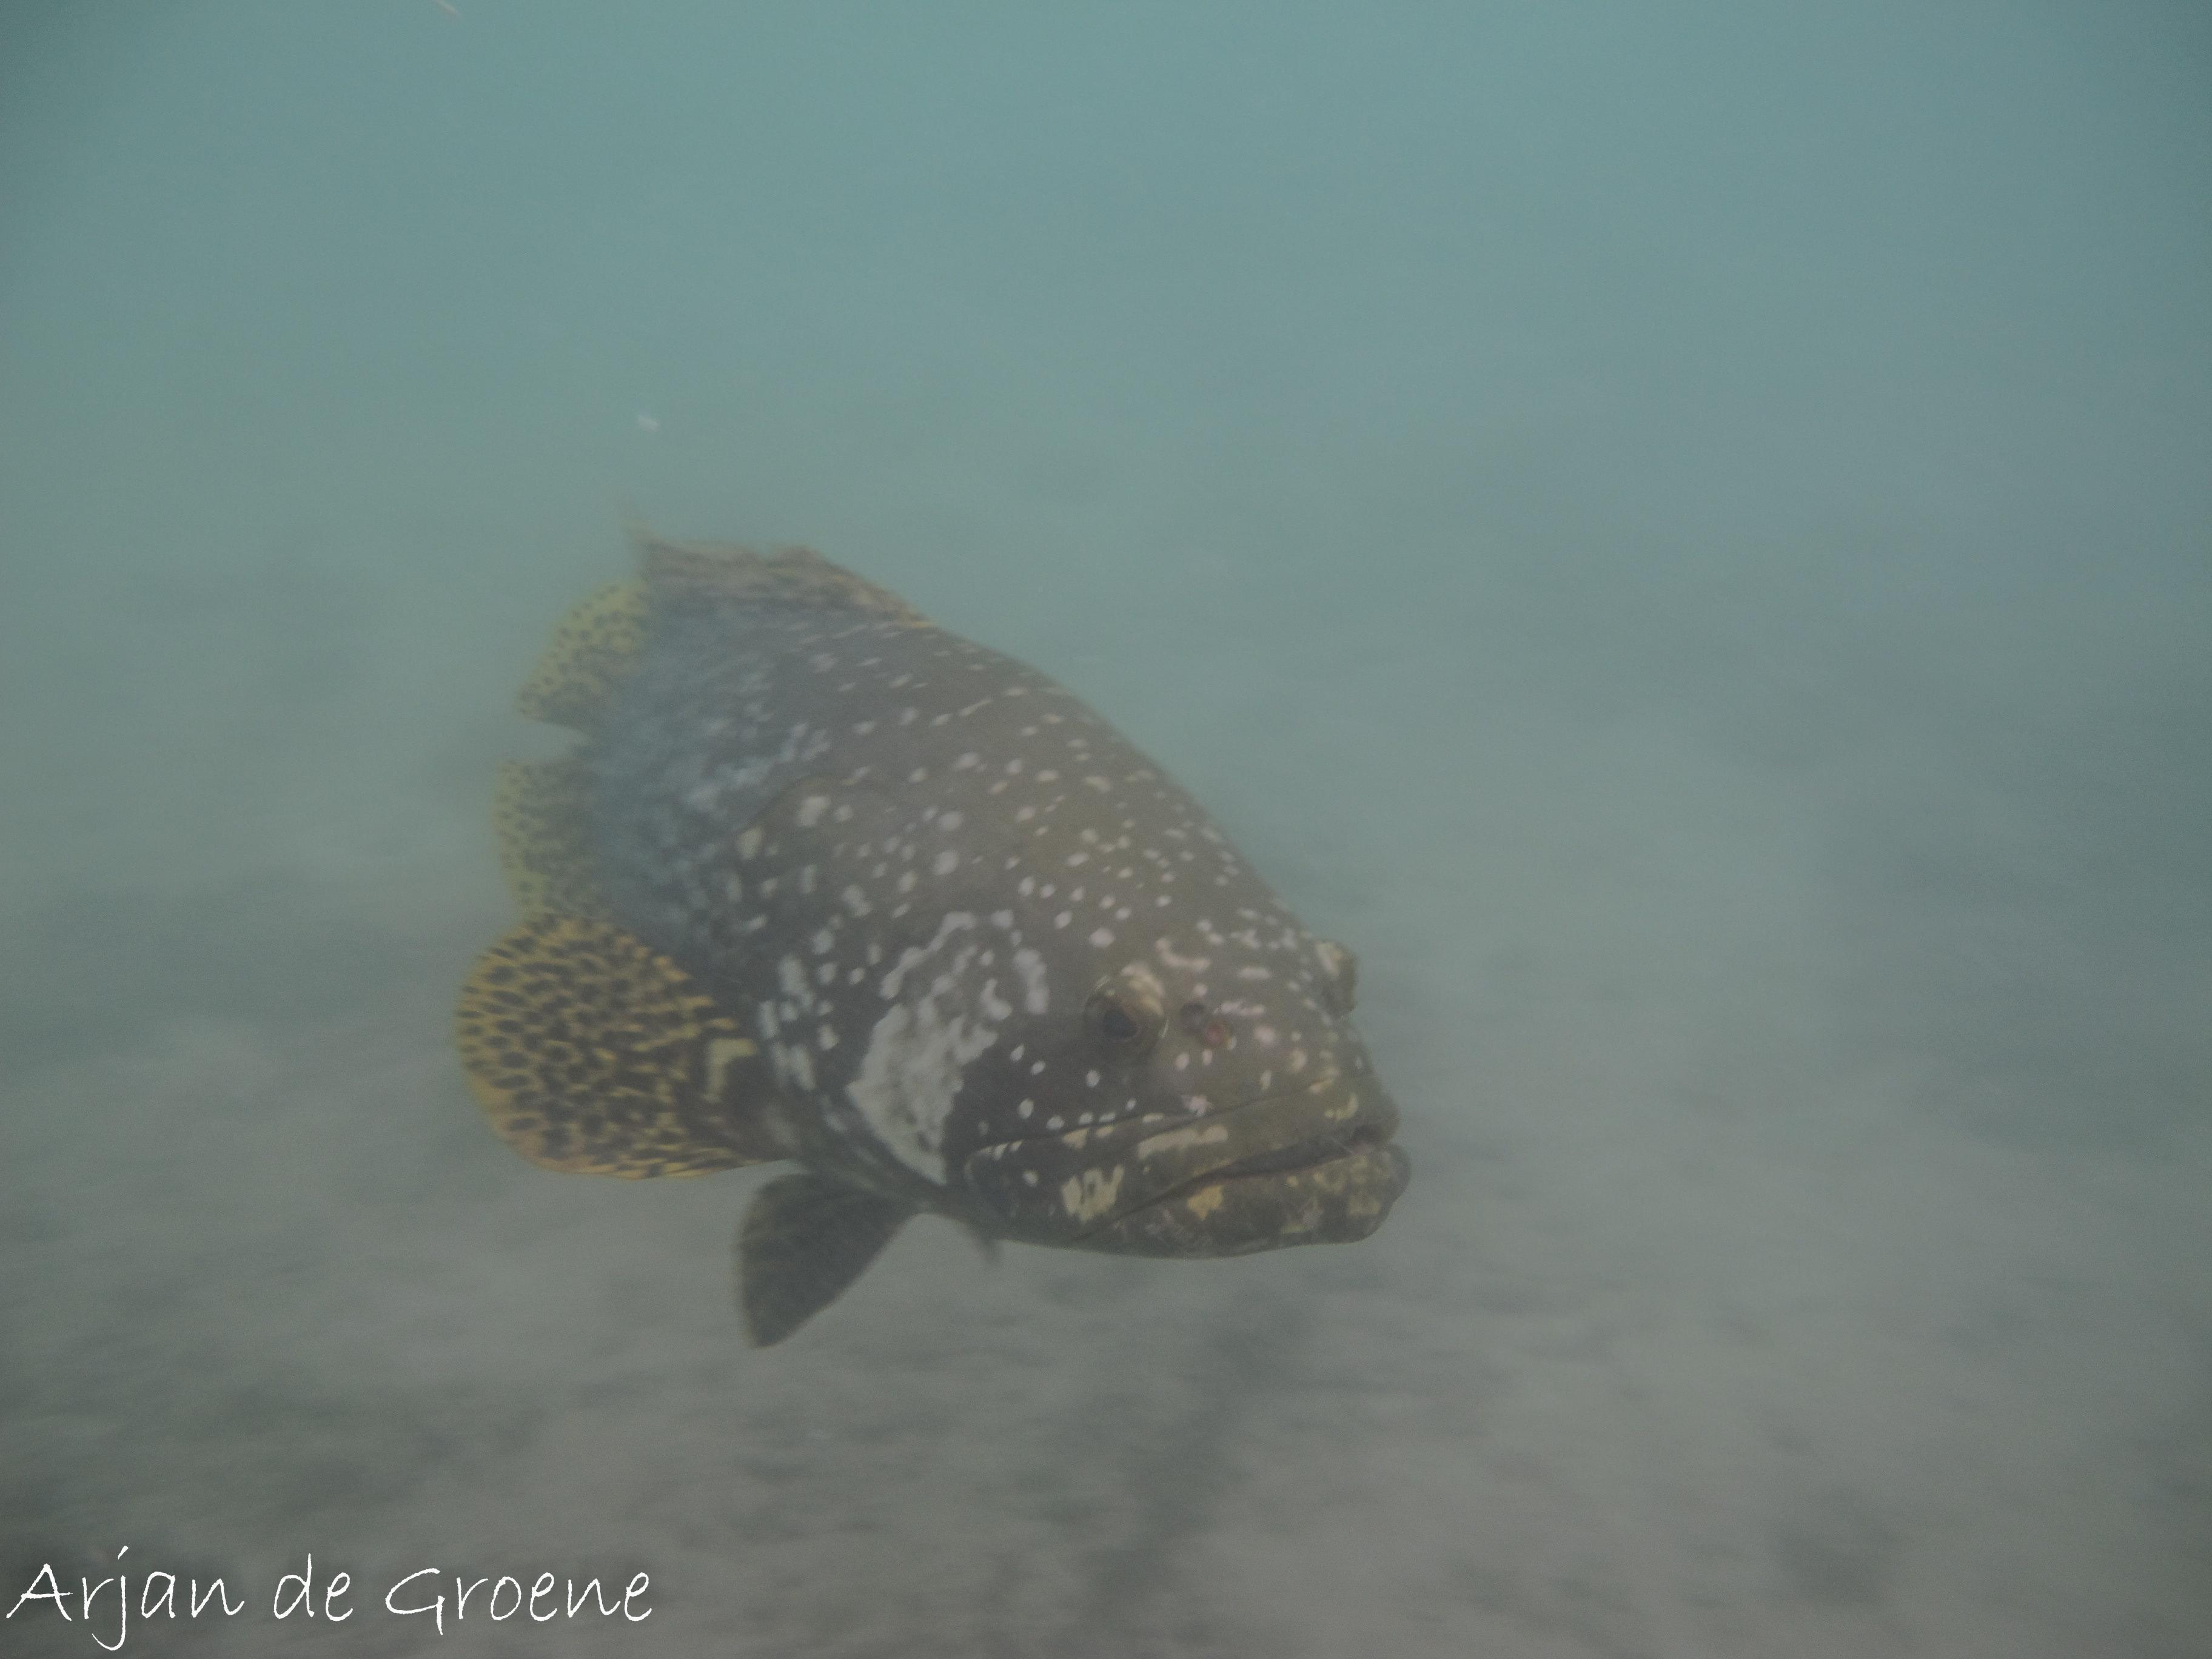Fish: (254, 430, 1592, 1438)
